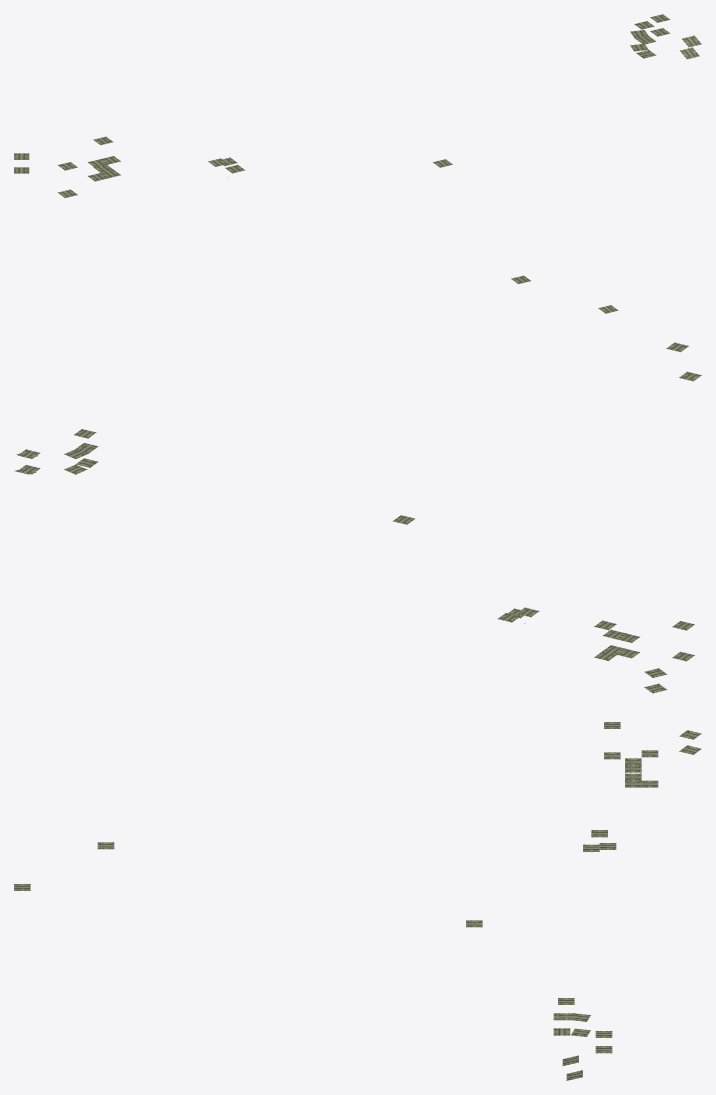
3 views of the same model, one above another, from view 1: azimuth 30°, elevation 25°; view 2: azimuth 150°, elevation 25°; view 3: azimuth 270°, elevation 25° (orthographic). The views are drawn at different scales.
Visible parts, largest first — view 1: Object_31; view 2: Object_31; view 3: Object_31.
Boxes of the visible parts, <box> form: Object_31: <box>14,14,701,313</box>; Object_31: <box>15,342,701,693</box>; Object_31: <box>14,722,701,1080</box>.
Bounding box in the file's own units: 40.96 × 3.84 × 35.08.
Materials: 1 (1 with a texture image).
